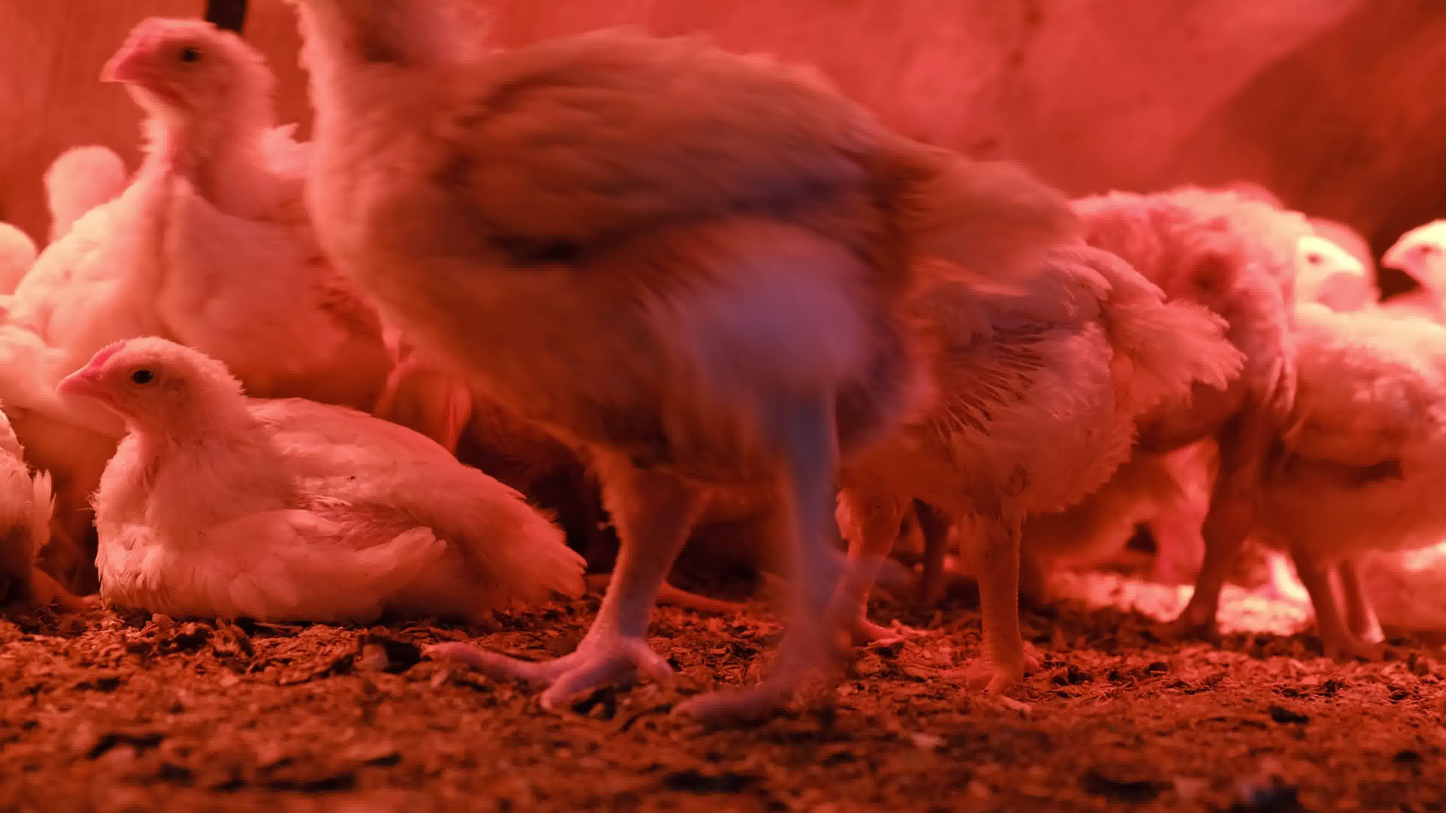AbNormal: (72, 343, 608, 659), (0, 277, 124, 662)
Normal: (264, 0, 1028, 734), (934, 162, 1260, 702), (87, 17, 427, 373), (1181, 245, 1446, 653), (34, 119, 154, 250), (1260, 211, 1405, 314), (0, 183, 88, 327), (1358, 177, 1446, 320)
